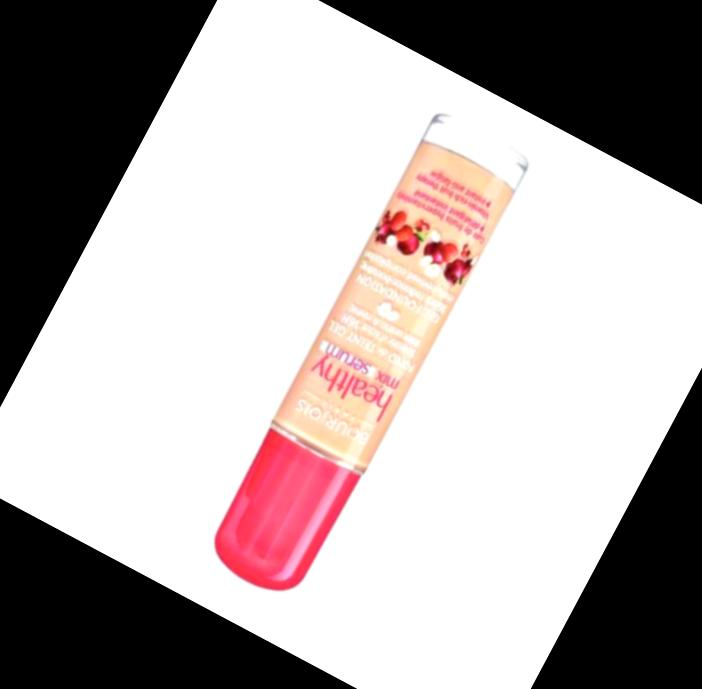cosmetic: (198, 111, 534, 608)
